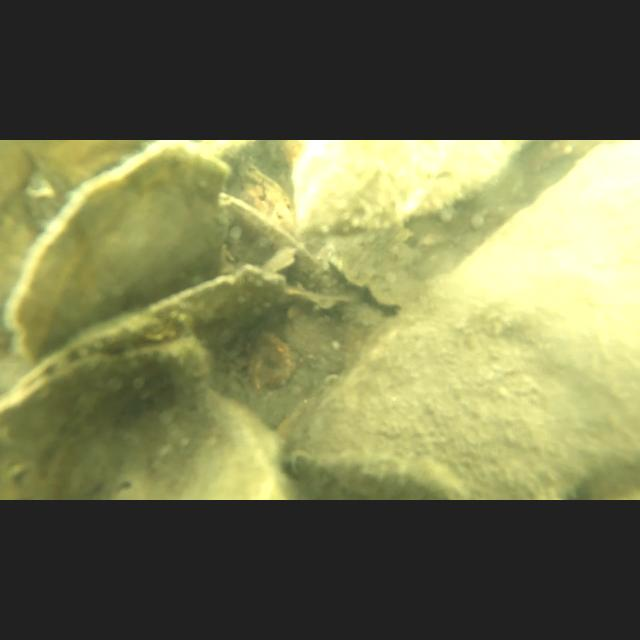Oyster-Closed: (279, 140, 640, 500), (0, 340, 288, 500), (292, 140, 520, 256)
Oyster-Open: (8, 140, 294, 394)
